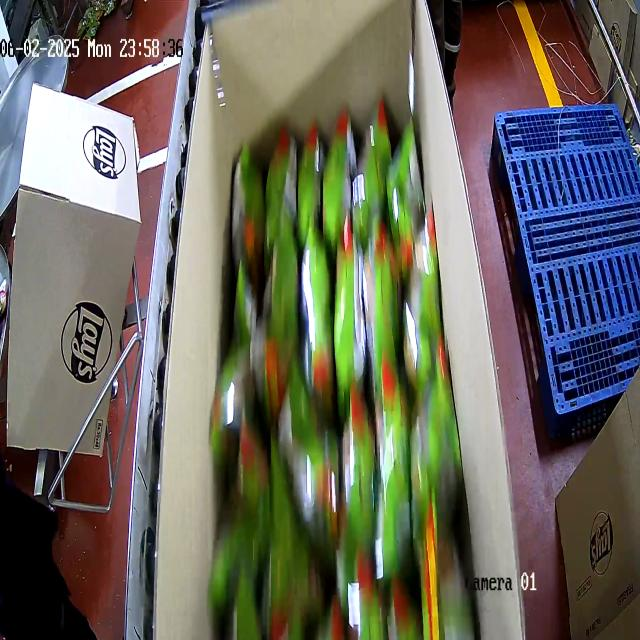YOGURT_HERB: (223, 112, 479, 640)
